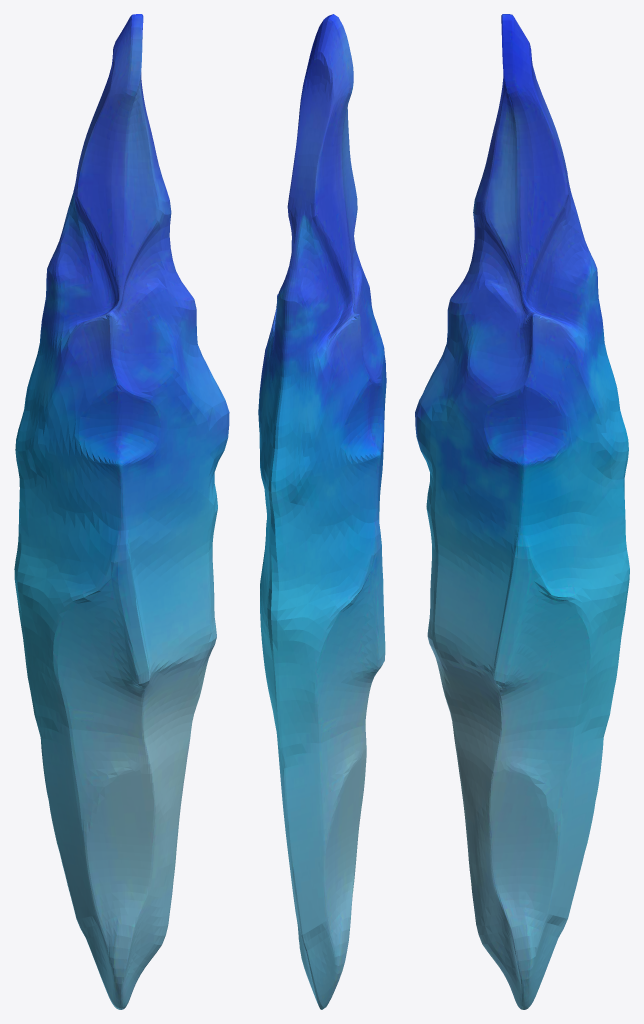
File: crystal2.glb
3 views of the same model, side by side, from view 1: azimuth 90°, elevation 25°; view 2: azimuth 150°, elevation 25°; view 3: azimuth 270°, elevation 25° (orthographic).
Parts seen in each view (by area): view 1: tripo_node_2890c445-4db2-454b-aa70-abe57b84ca4c; view 2: tripo_node_2890c445-4db2-454b-aa70-abe57b84ca4c; view 3: tripo_node_2890c445-4db2-454b-aa70-abe57b84ca4c.
Part boxes in pixels (bbox=[...]): tripo_node_2890c445-4db2-454b-aa70-abe57b84ca4c: bbox=[14, 14, 229, 1009]; tripo_node_2890c445-4db2-454b-aa70-abe57b84ca4c: bbox=[258, 14, 386, 1009]; tripo_node_2890c445-4db2-454b-aa70-abe57b84ca4c: bbox=[415, 14, 629, 1009].
Size of the model in its own units: 0.4571 by 3.76 by 0.7364.
Materials: 1 (1 with a texture image).
